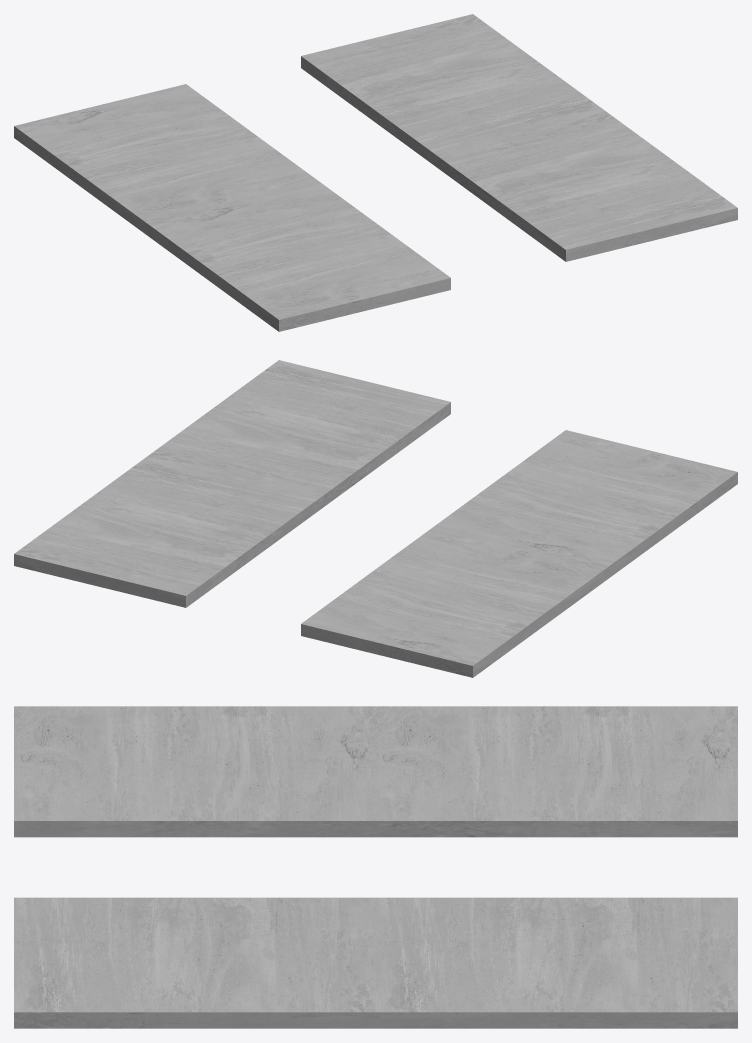
The model's file is Ceiling8x8Skylight.glb.
The picture shows the model from 3 angles, top to bottom: view 1: azimuth 30°, elevation 25°; view 2: azimuth 150°, elevation 25°; view 3: azimuth 270°, elevation 25°; orthographic projection. The views are drawn at different scales.
Parts seen in each view (by area): view 1: Ceiling-8x8-SkylightSeamless; view 2: Ceiling-8x8-SkylightSeamless; view 3: Ceiling-8x8-SkylightSeamless.
Boxes of the visible parts, x1,y1,x2,y2 form: Ceiling-8x8-SkylightSeamless: (14, 14, 737, 331); Ceiling-8x8-SkylightSeamless: (14, 360, 737, 677); Ceiling-8x8-SkylightSeamless: (14, 706, 737, 1028).
Size of the model in its own units: 8 by 0.2 by 8.
Materials: 1 (1 with a texture image).
